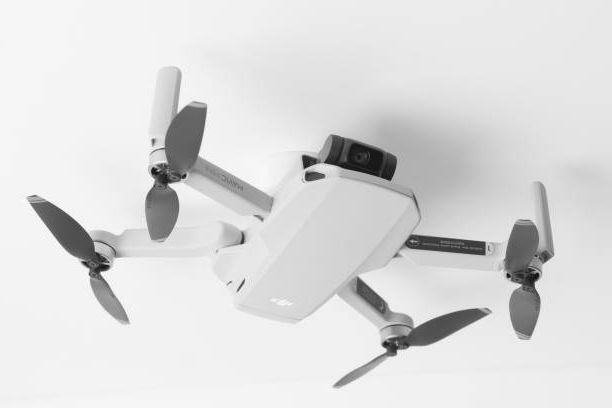Drone: (22, 61, 555, 389)
